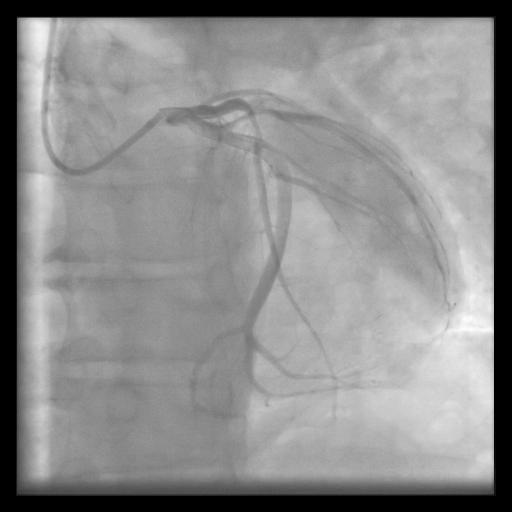Stenosis: (247, 113, 265, 147)
